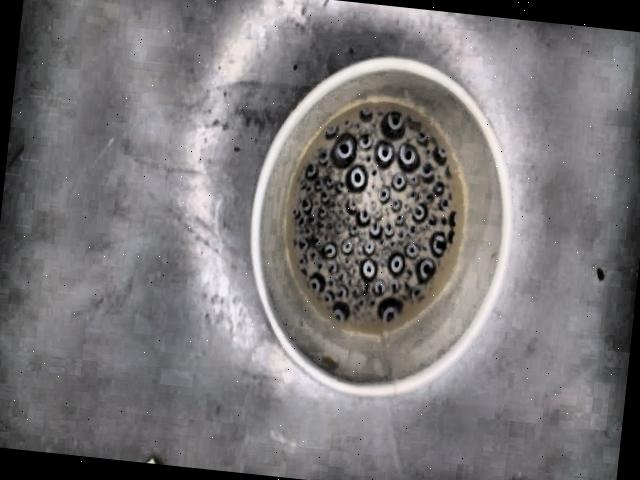Almennt: (285, 101, 461, 330)
Paper: (252, 54, 514, 391)
